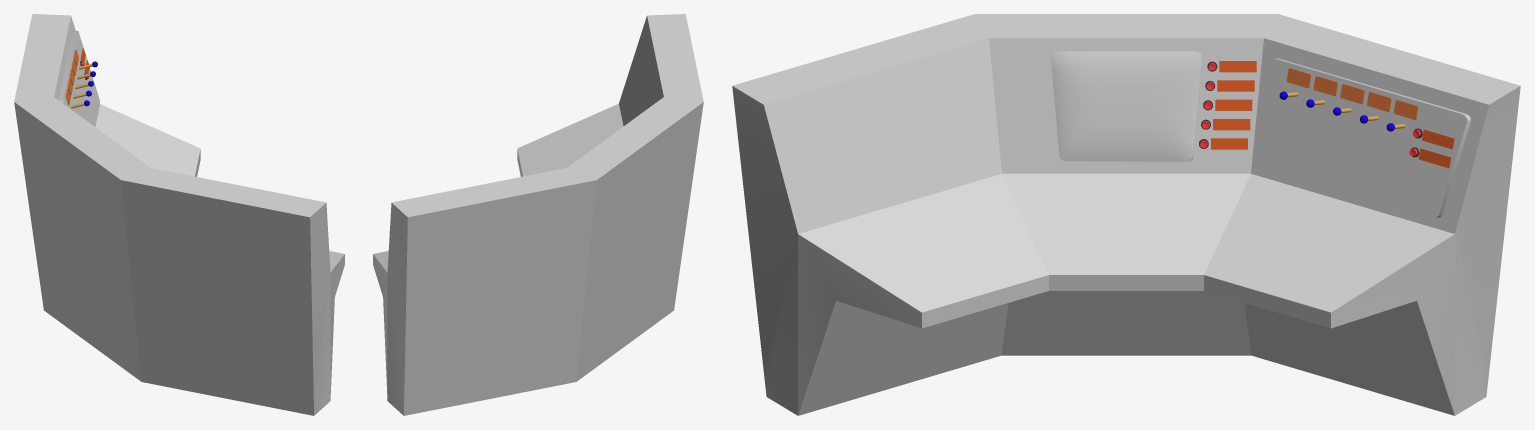
Rendered from Broken gears terminal.fbx.
3 renders of one model, left to right at view 1: azimuth 30°, elevation 25°; view 2: azimuth 150°, elevation 25°; view 3: azimuth 270°, elevation 25°, orthographic. The views are drawn at different scales.
Parts seen in each view (by area): view 1: Cube, Cube.004, Lever.001; view 2: Cube; view 3: Cube, Cube.004, Cube.002, Cube.001, Name Panel.001, Cube.003.
Part boxes in pixels (x1=…): Cube: x1=14, y1=14, x2=344, y2=415; Cube.004: x1=59, y1=31, x2=99, y2=126; Lever.001: x1=71, y1=61, x2=97, y2=108; Cube: x1=373, y1=14, x2=703, y2=415; Cube: x1=732, y1=14, x2=1520, y2=415; Cube.004: x1=1261, y1=58, x2=1470, y2=218; Cube.002: x1=1051, y1=51, x2=1201, y2=161; Cube.001: x1=1211, y1=61, x2=1256, y2=149; Name Panel.001: x1=1286, y1=68, x2=1418, y2=119; Cube.003: x1=1418, y1=129, x2=1454, y2=168.
Size of the model in its own units: 117 by 115 by 275.
